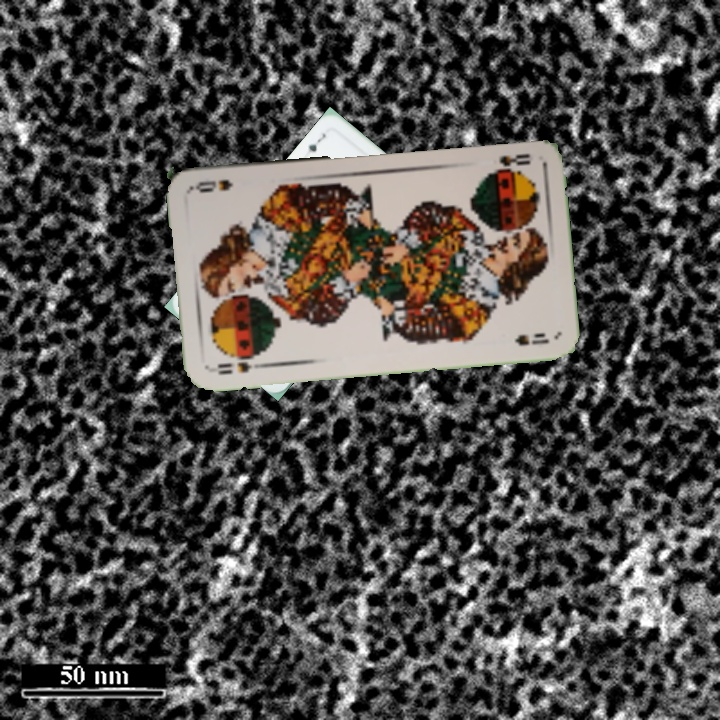G7: (304, 129, 329, 155)
SO: (490, 150, 533, 173), (214, 358, 254, 377)
